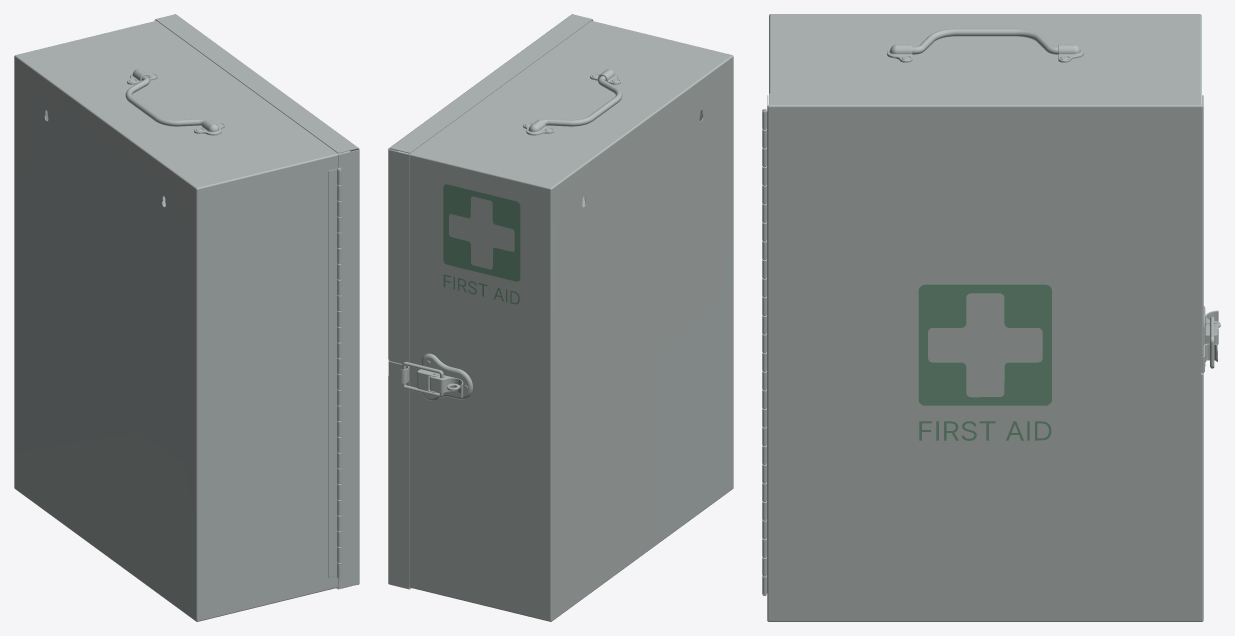
The model's file is safety_firstAidCabinet_wallMounted_a01.glb.
3 renders of one model, left to right at view 1: azimuth 30°, elevation 25°; view 2: azimuth 150°, elevation 25°; view 3: azimuth 270°, elevation 25°, orthographic. The views are drawn at different scales.
Size of the model in its own units: 0.1801 by 0.4679 by 0.3709.
